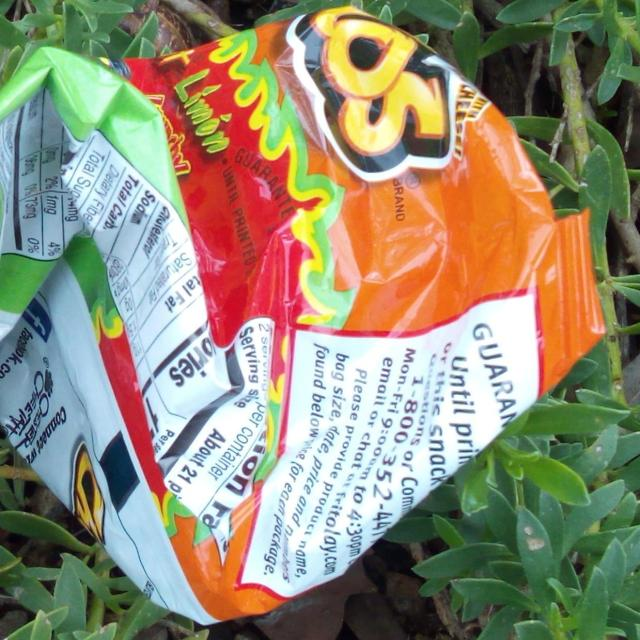litter: (1, 6, 606, 626)
